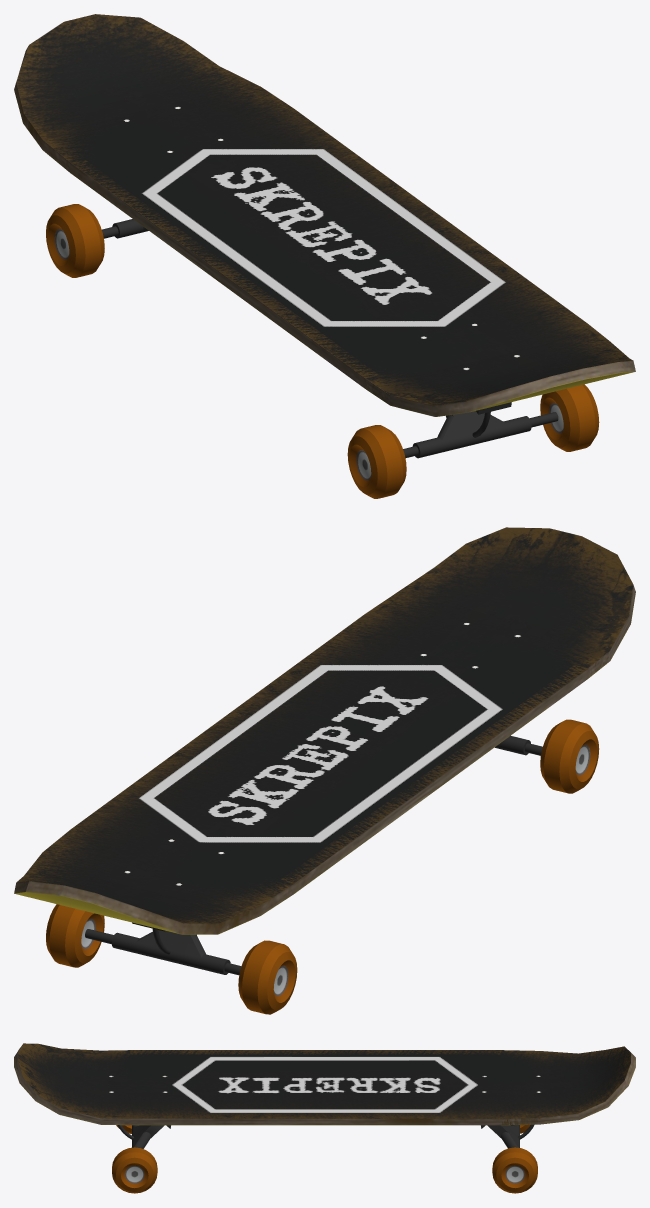
File: skateboard.glb
3 renders of one model, top to bottom at view 1: azimuth 30°, elevation 25°; view 2: azimuth 150°, elevation 25°; view 3: azimuth 270°, elevation 25°, orthographic. The views are drawn at different scales.
Visible parts, largest first — view 1: Skateboard_Low_00, Wheel_Low_01, Wheel_Low_00, Detail_Low_01, Wheel_Low_02; view 2: Skateboard_Low_00, Wheel_Low_01, Wheel_Low_00, Detail_Low_04, Wheel_Low_03; view 3: Skateboard_Low_00, Wheel_Low_03, Wheel_Low_02, Detail_Low_01, Detail_Low_04.
Boxes of the visible parts, <box> form: Skateboard_Low_00: <box>14,14,635,416</box>; Wheel_Low_01: <box>46,204,104,277</box>; Wheel_Low_00: <box>347,425,406,498</box>; Detail_Low_01: <box>403,411,558,458</box>; Wheel_Low_02: <box>540,384,599,451</box>; Skateboard_Low_00: <box>14,527,635,934</box>; Wheel_Low_01: <box>238,940,297,1014</box>; Wheel_Low_00: <box>540,719,599,793</box>; Detail_Low_04: <box>85,929,241,975</box>; Wheel_Low_03: <box>46,904,104,967</box>; Skateboard_Low_00: <box>14,1043,635,1125</box>; Wheel_Low_03: <box>492,1147,537,1193</box>; Wheel_Low_02: <box>112,1147,157,1193</box>; Detail_Low_01: <box>132,1125,164,1148</box>; Detail_Low_04: <box>487,1125,519,1148</box>.
Bounding box in the file's own units: 137 × 96.16 × 518.
3 materials, 3 textured.
